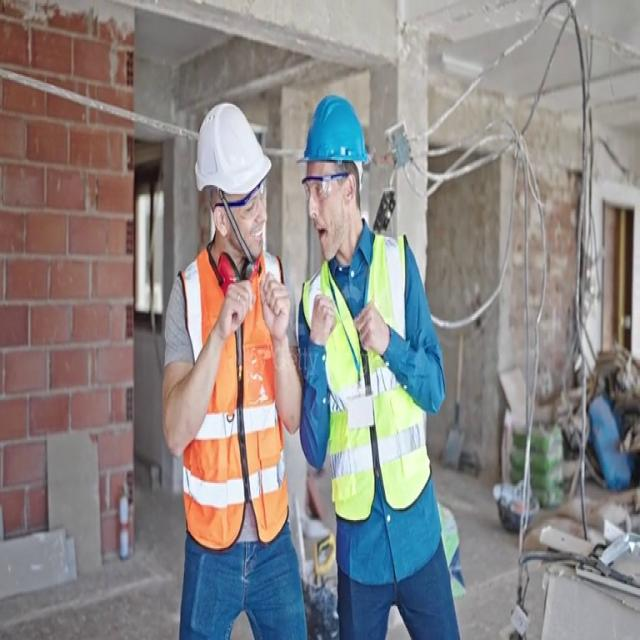capacete: (189, 94, 274, 207), (291, 89, 373, 175)
